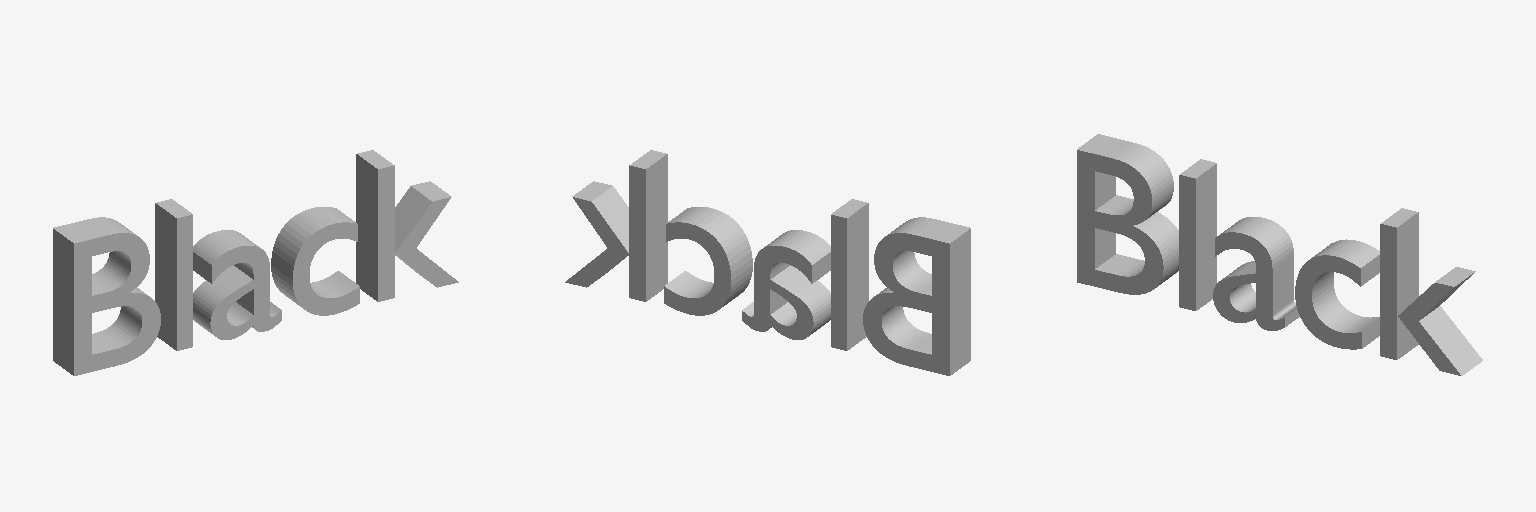
The model's file is black.obj.
3 renders of one model, left to right at view 1: azimuth 30°, elevation 25°; view 2: azimuth 150°, elevation 25°; view 3: azimuth 330°, elevation 25°, orthographic.
Visible parts, largest first — view 1: Text; view 2: Text; view 3: Text.
Part boxes in pixels (left/top/right/bottom): Text: left=53, top=150, right=458, bottom=375; Text: left=565, top=150, right=970, bottom=375; Text: left=1077, top=134, right=1482, bottom=375.
Size of the model in its own units: 8.29 by 2.76 by 0.8.